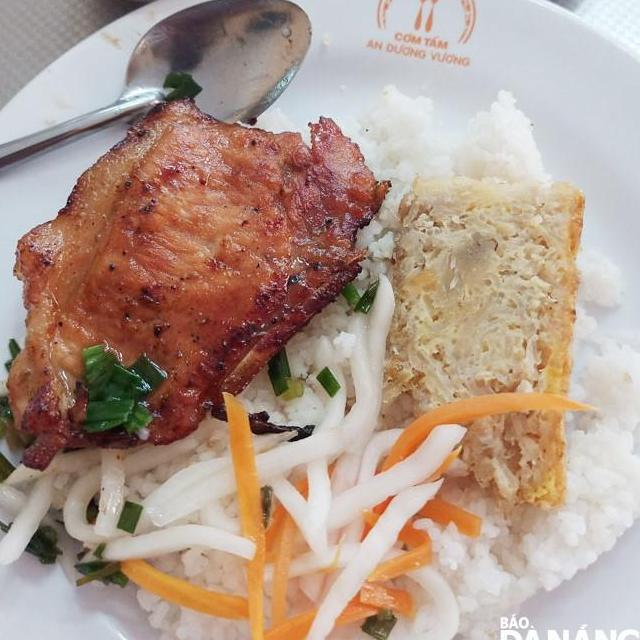cha: (374, 169, 589, 517)
com: (516, 241, 640, 595), (226, 217, 399, 439), (340, 79, 561, 199), (396, 477, 542, 640), (131, 529, 293, 640)
com suon cha: (0, 31, 640, 640)
dua chua: (97, 268, 471, 640), (0, 421, 261, 576)
suon: (2, 93, 396, 475)
